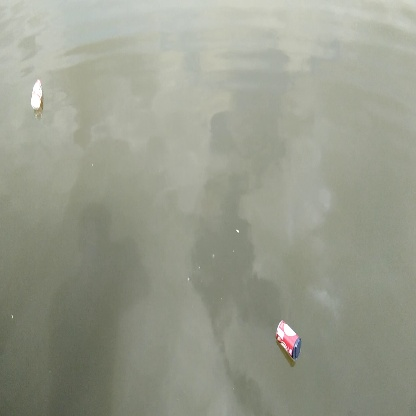bottle: (270, 319, 304, 361), (30, 77, 49, 111)
